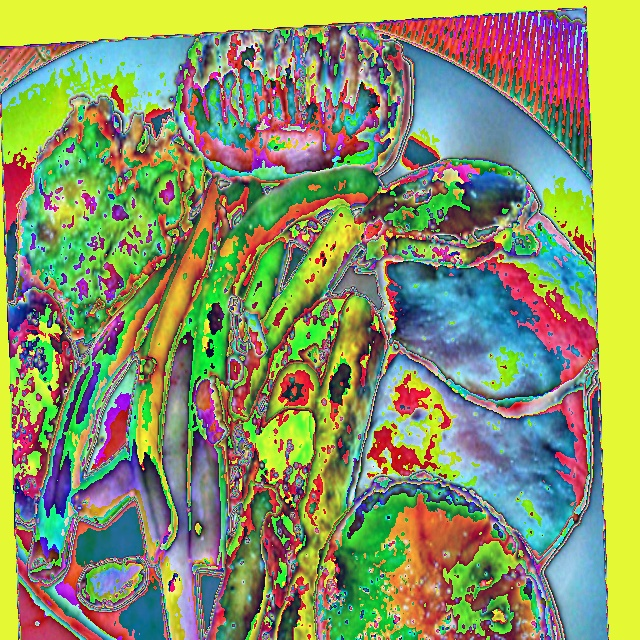background: (8, 23, 598, 639), (74, 57, 148, 612)
